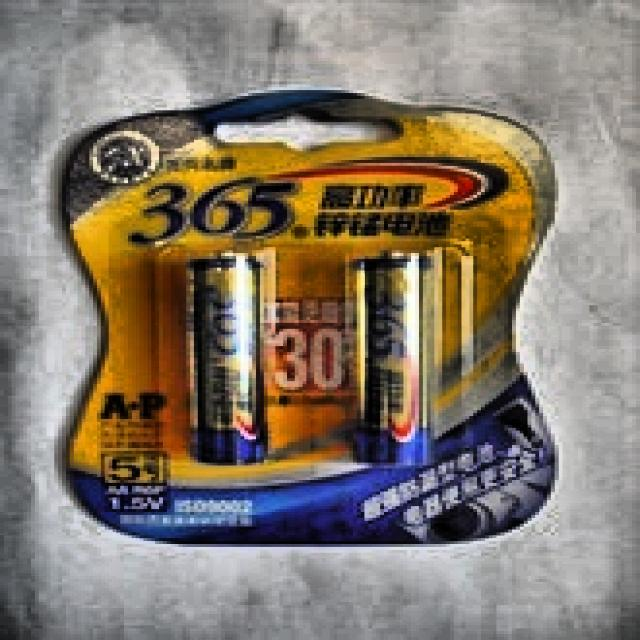Non-Valuable Waste - Batteries: (190, 254, 263, 463), (357, 252, 425, 463)
